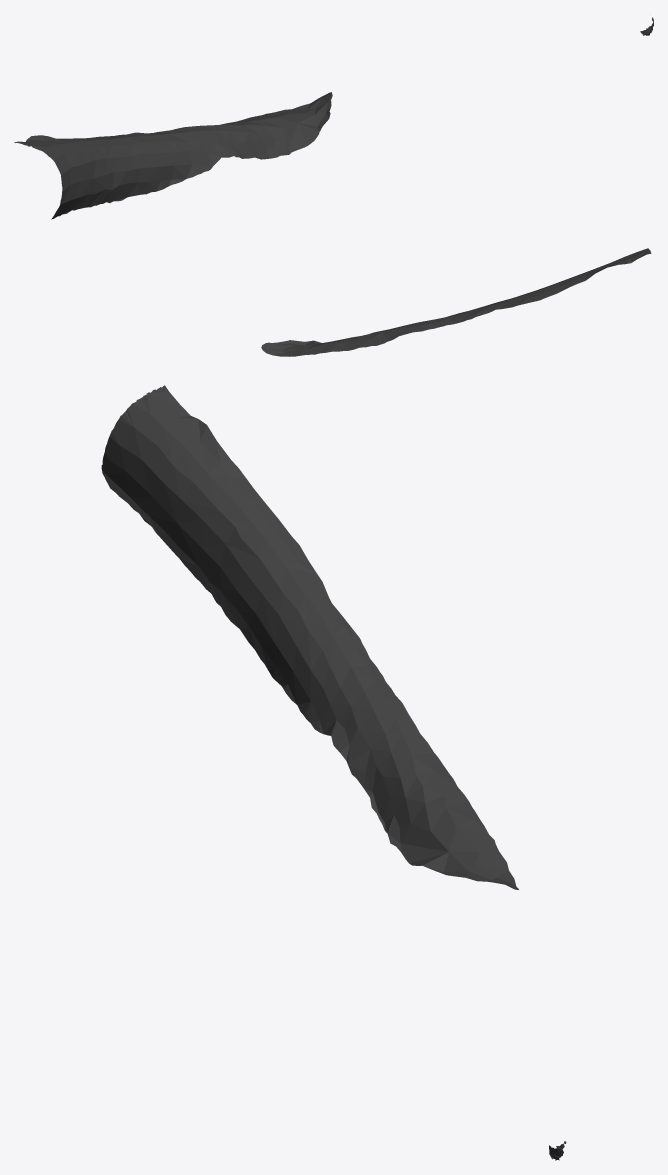
File: A_aorta_thoracic_A_aorta_thoracic.glb
3 renders of one model, top to bottom at view 1: azimuth 30°, elevation 25°; view 2: azimuth 150°, elevation 25°; view 3: azimuth 270°, elevation 25°, orthographic. The views are drawn at different scales.
Parts seen in each view (by area): view 1: A_aorta_thoracic_A_aorta_thoracic; view 2: A_aorta_thoracic_A_aorta_thoracic; view 3: A_aorta_thoracic_A_aorta_thoracic.
Boxes of the visible parts, x1=… form: A_aorta_thoracic_A_aorta_thoracic: x1=14, y1=17, x2=653, y2=219; A_aorta_thoracic_A_aorta_thoracic: x1=261, y1=248, x2=651, y2=356; A_aorta_thoracic_A_aorta_thoracic: x1=101, y1=385, x2=566, y2=1160.
Size of the model in its own units: 0.0916 by 0.0207 by 0.0342.
Materials: 1 (1 with a texture image).
